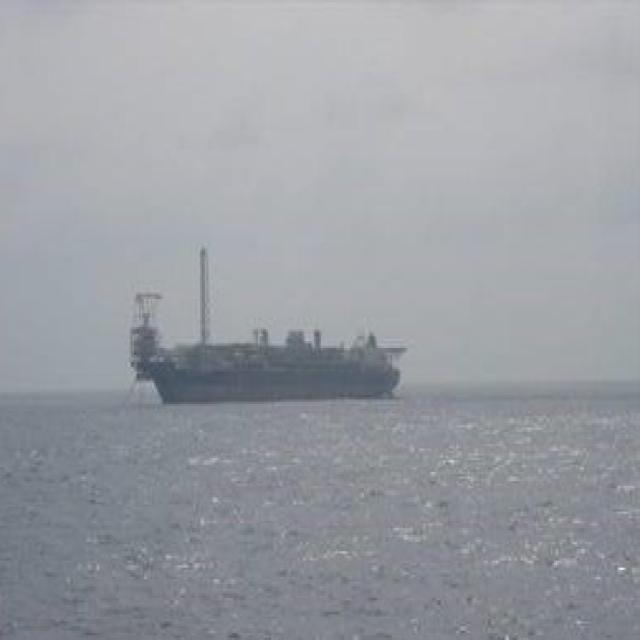cargoship: (116, 260, 399, 396)
